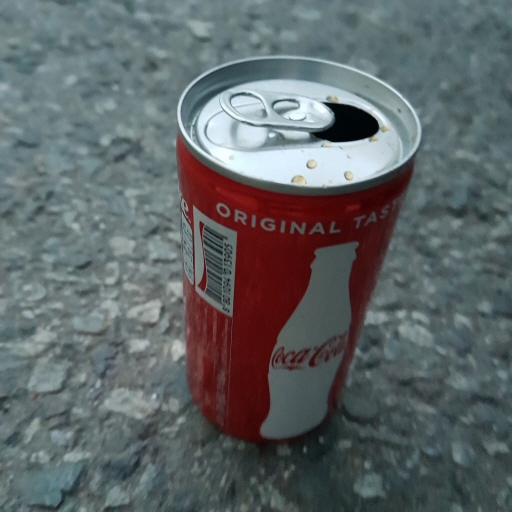Metal_0: (172, 52, 424, 446)
